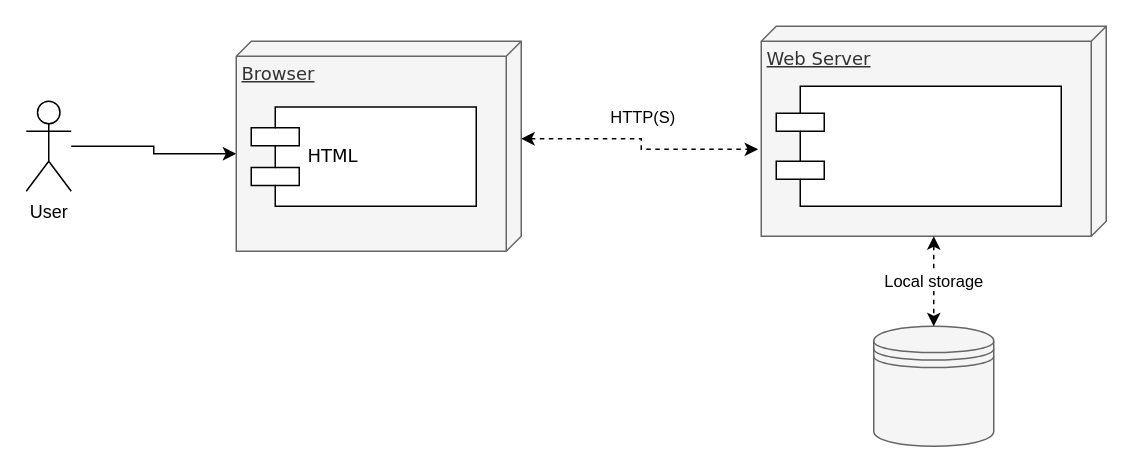
Some shapes in this 1133 by 473 pixel diagram are drawn without their labels. Each missing label, with the centre of its shape:
"Flask application" belongs at point (918, 145).
"Local Disk" belongs at point (933, 385).
